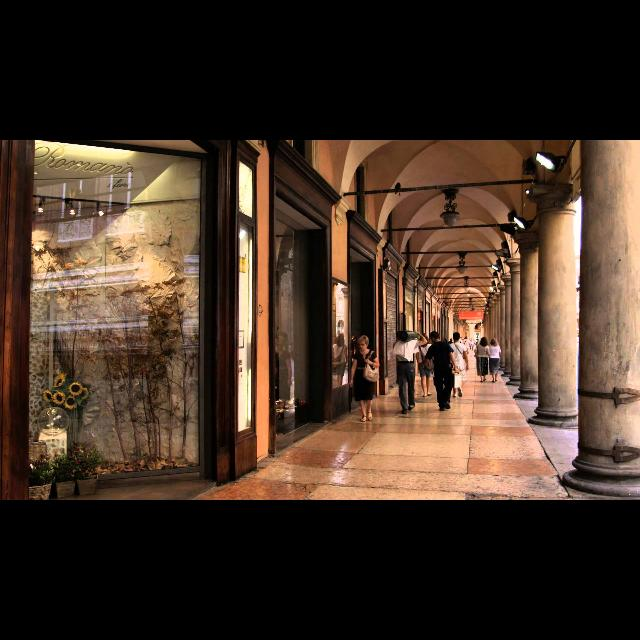head: (358, 336, 369, 352), (429, 331, 439, 344), (420, 333, 430, 342), (396, 331, 404, 341), (453, 332, 461, 342), (480, 336, 488, 344), (492, 338, 496, 344), (451, 338, 453, 342), (466, 336, 468, 339)
person: (390, 328, 430, 416), (422, 330, 462, 412), (349, 334, 381, 424), (446, 330, 470, 400), (415, 332, 437, 398), (473, 337, 491, 383), (485, 337, 503, 383), (462, 336, 471, 360), (447, 337, 455, 361)
